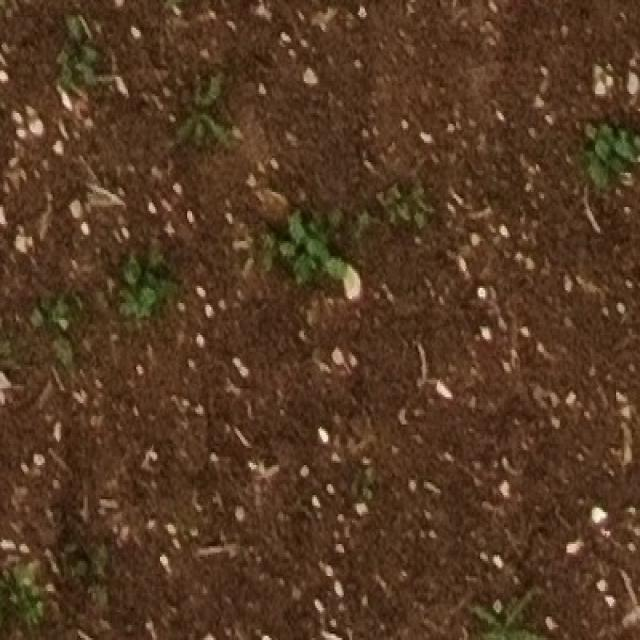cirse: (174, 80, 234, 152)
